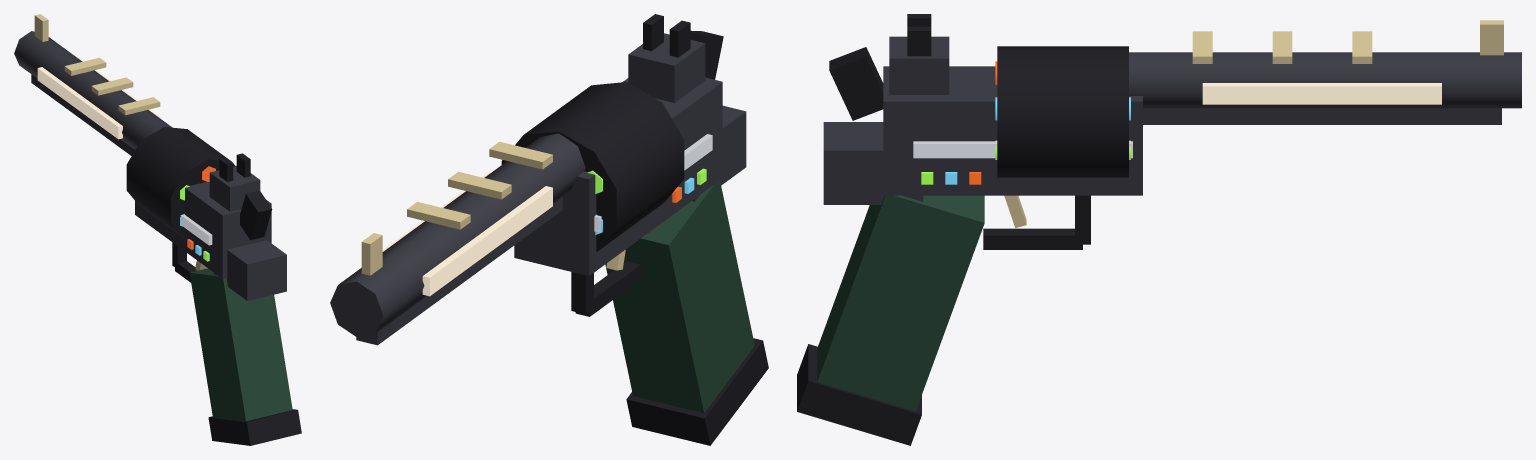
Rendered from BO_SK_Weapon_Trinity_v001.glb.
3 views of the same model, side by side, from view 1: azimuth 30°, elevation 25°; view 2: azimuth 150°, elevation 25°; view 3: azimuth 270°, elevation 25° (orthographic). The views are drawn at different scales.
Parts seen in each view (by area): view 1: body_000, body_007, body_015, body_005, body_006, body_001, glowfx_021, body_030, body_033, body_016, body_018, body_017 (+5 smaller); view 2: body_000, body_007, body_015, body_005, body_001, body_030, glowfx_021, body_016, body_006, body_002, body_018, body_019 (+7 smaller); view 3: body_000, body_007, body_015, body_005, body_016, glowfx_020, body_006, body_001, body_030, body_033, body_002, glowfx_022 (+6 smaller).
Boxes of the visible parts, <box> form: body_000: <box>189,268,292,421</box>; body_007: <box>126,127,235,238</box>; body_015: <box>14,31,172,149</box>; body_005: <box>135,182,271,278</box>; body_006: <box>213,240,286,300</box>; body_001: <box>208,409,301,445</box>; glowfx_021: <box>37,67,122,139</box>; body_030: <box>209,166,260,211</box>; body_033: <box>240,190,272,240</box>; body_016: <box>31,74,134,155</box>; body_018: <box>91,77,133,95</box>; body_017: <box>118,97,160,115</box>; body_000: <box>605,180,754,413</box>; body_007: <box>501,82,684,252</box>; body_015: <box>330,133,585,337</box>; body_005: <box>514,77,722,275</box>; body_001: <box>626,338,768,445</box>; body_030: <box>628,33,705,102</box>; glowfx_021: <box>422,186,552,296</box>; body_016: <box>356,197,562,345</box>; body_006: <box>692,105,746,201</box>; body_002: <box>575,261,640,316</box>; body_018: <box>448,171,511,199</box>; body_019: <box>407,202,470,229</box>; body_000: <box>817,195,984,411</box>; body_007: <box>997,46,1128,177</box>; body_015: <box>1129,52,1521,108</box>; body_005: <box>883,66,1142,195</box>; body_016: <box>1143,108,1501,124</box>; glowfx_020: <box>1202,83,1441,104</box>; body_006: <box>823,122,923,204</box>; body_001: <box>797,344,921,445</box>; body_030: <box>889,36,949,94</box>; body_033: <box>829,47,883,120</box>; body_002: <box>983,228,1082,249</box>; glowfx_022: <box>913,141,1132,158</box>.
Size of the model in its own units: 0.0647 by 0.224 by 0.3633.
